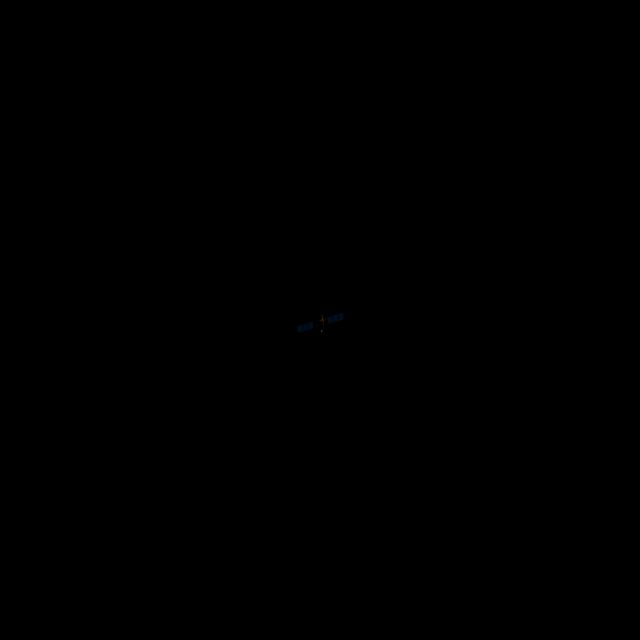satellite: (292, 308, 348, 347)
